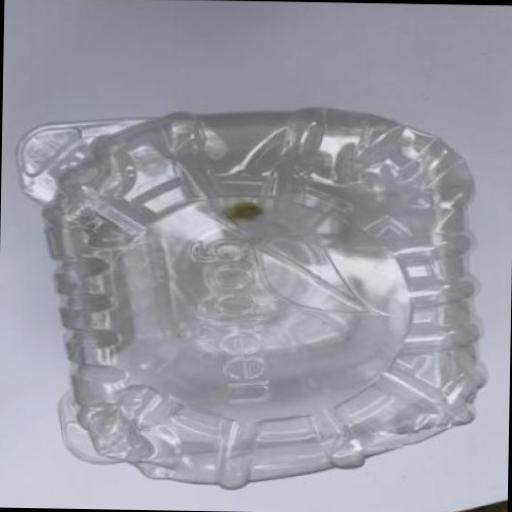plastic: (8, 102, 487, 494)
